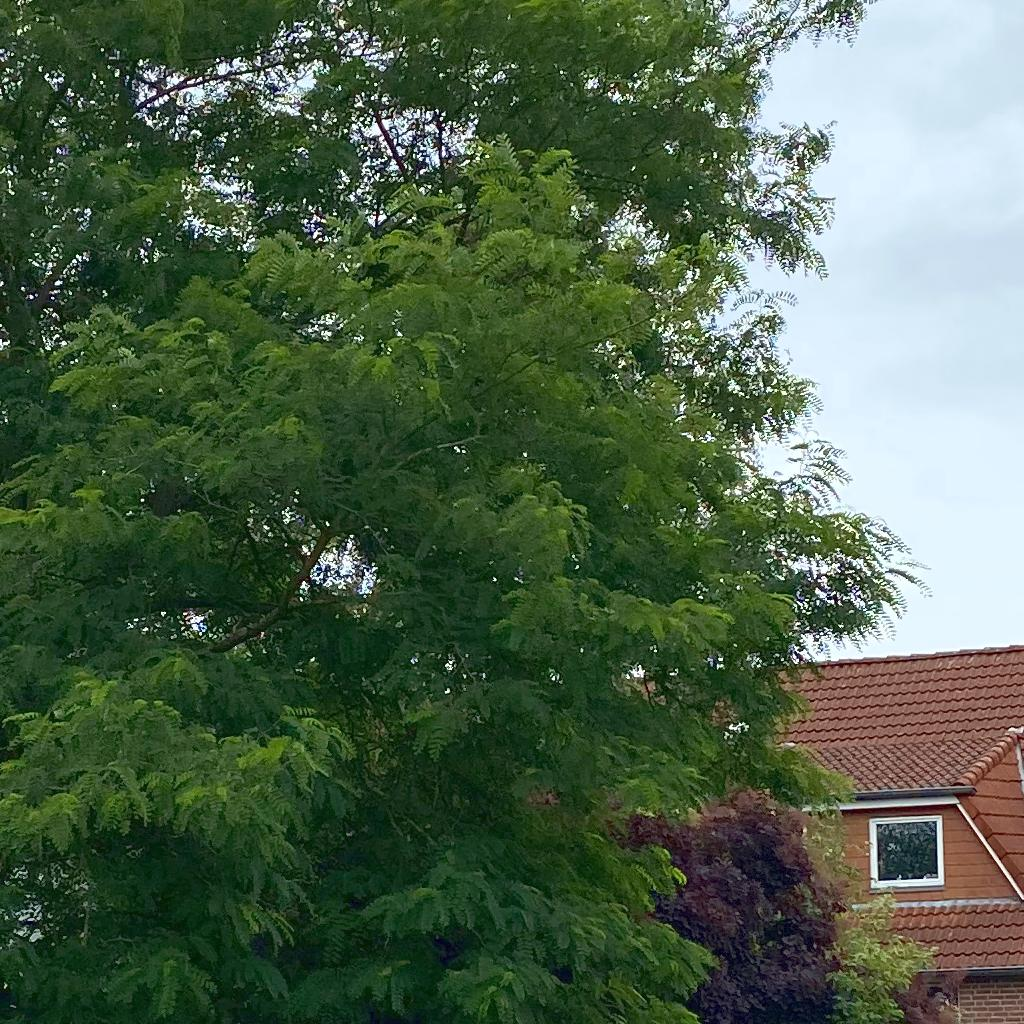tree: (1, 1, 933, 1023), (601, 791, 850, 1024)
